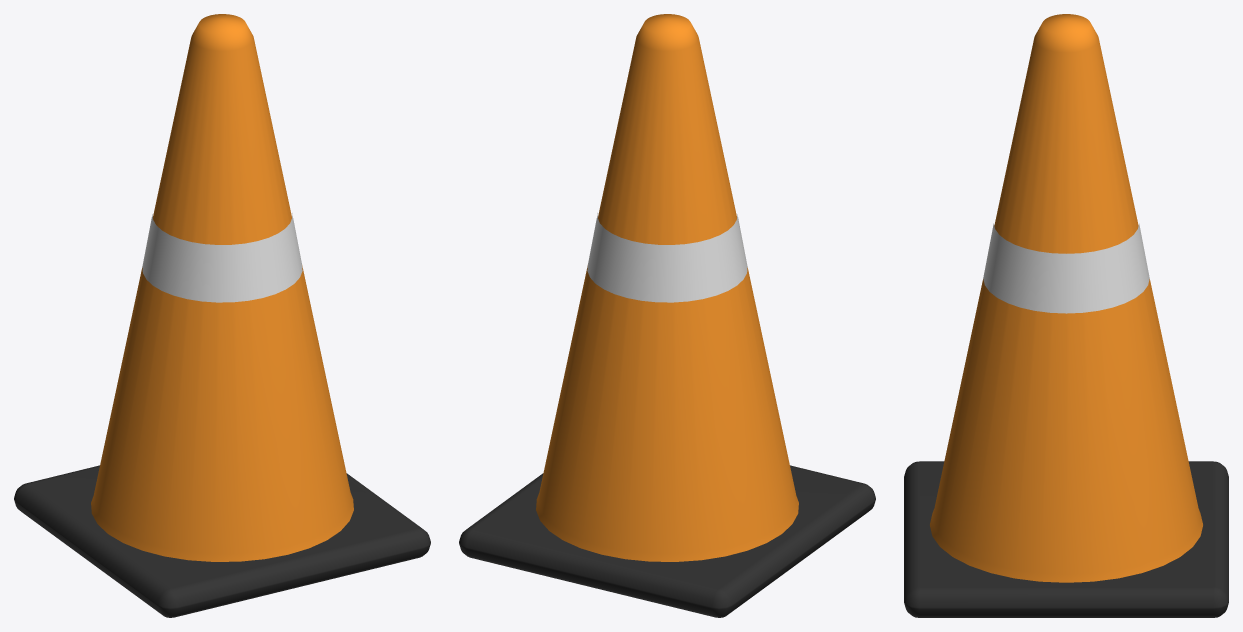
File: prop_cone.glb
3 views of the same model, side by side, from view 1: azimuth 30°, elevation 25°; view 2: azimuth 150°, elevation 25°; view 3: azimuth 270°, elevation 25° (orthographic). The views are drawn at different scales.
Visible parts, largest first — view 1: ConeBody, Base, Band; view 2: ConeBody, Base, Band; view 3: ConeBody, Base, Band.
Part boxes in pixels (bbox=[...]): ConeBody: bbox=[91, 14, 353, 561]; Base: bbox=[14, 465, 430, 617]; Band: bbox=[142, 213, 302, 302]; ConeBody: bbox=[536, 14, 798, 561]; Base: bbox=[459, 465, 875, 617]; Band: bbox=[587, 213, 747, 302]; ConeBody: bbox=[930, 14, 1202, 582]; Base: bbox=[904, 461, 1228, 617]; Band: bbox=[983, 223, 1149, 313].
Bounding box in the file's own units: 0.4 × 0.725 × 0.4.
